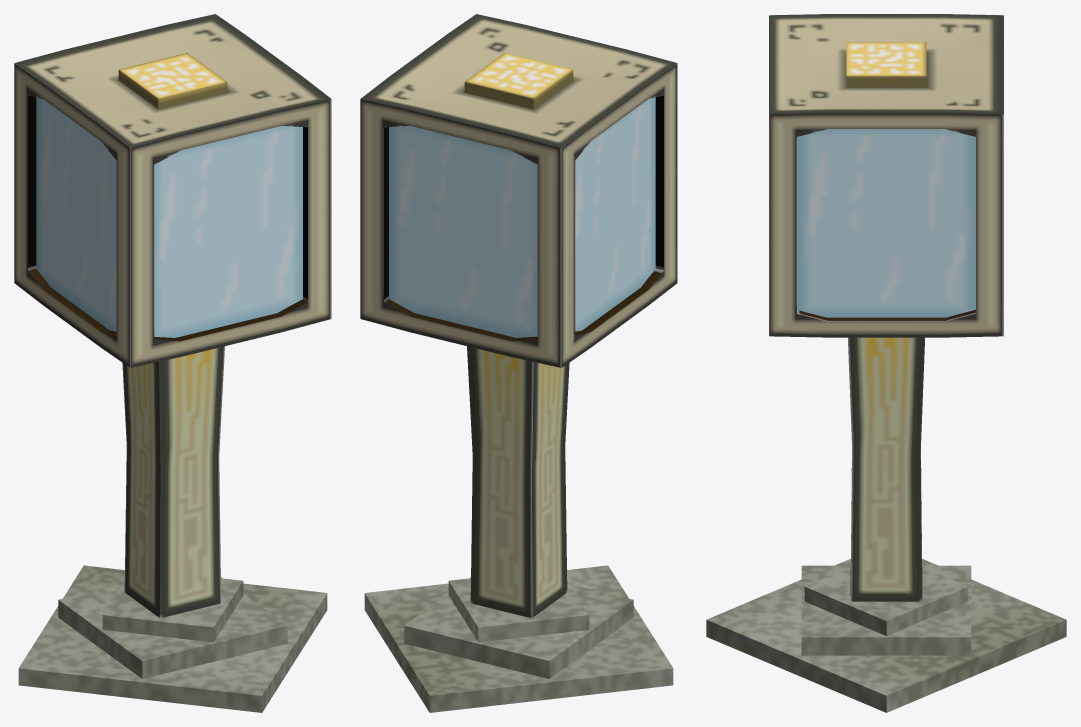
File: notif_tower.FBX
3 renders of one model, left to right at view 1: azimuth 30°, elevation 25°; view 2: azimuth 150°, elevation 25°; view 3: azimuth 270°, elevation 25°, orthographic.
Parts seen in each view (by area): view 1: Notif_Tower, Notif_Glass, notif_lights; view 2: Notif_Tower, Notif_Glass, notif_lights; view 3: Notif_Tower, Notif_Glass, notif_lights.
Boxes of the visible parts, x1=… form: Notif_Tower: x1=14, y1=14, x2=331, y2=712; Notif_Glass: x1=36, y1=97, x2=302, y2=337; notif_lights: x1=118, y1=53, x2=227, y2=109; Notif_Tower: x1=360, y1=14, x2=677, y2=712; Notif_Glass: x1=389, y1=97, x2=655, y2=337; notif_lights: x1=464, y1=53, x2=573, y2=109; Notif_Tower: x1=706, y1=14, x2=1066, y2=712; Notif_Glass: x1=797, y1=129, x2=975, y2=317; notif_lights: x1=846, y1=42, x2=926, y2=87.
Bounding box in the file's own units: 98.6 × 174 × 98.6.
2 materials, 2 textured.
